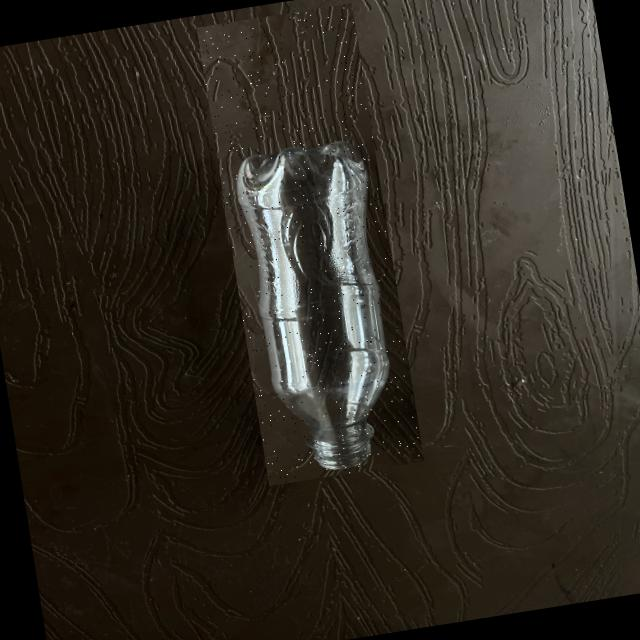PET_ClearBottle: (196, 3, 424, 486)
